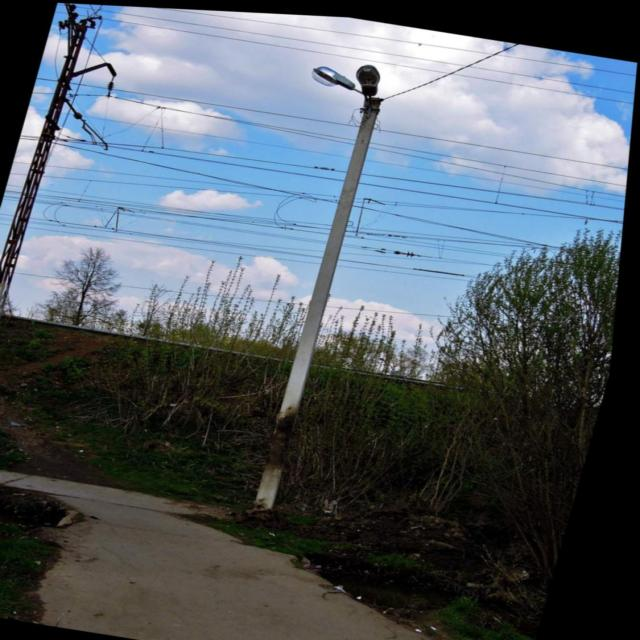pole: (235, 212, 347, 520)
